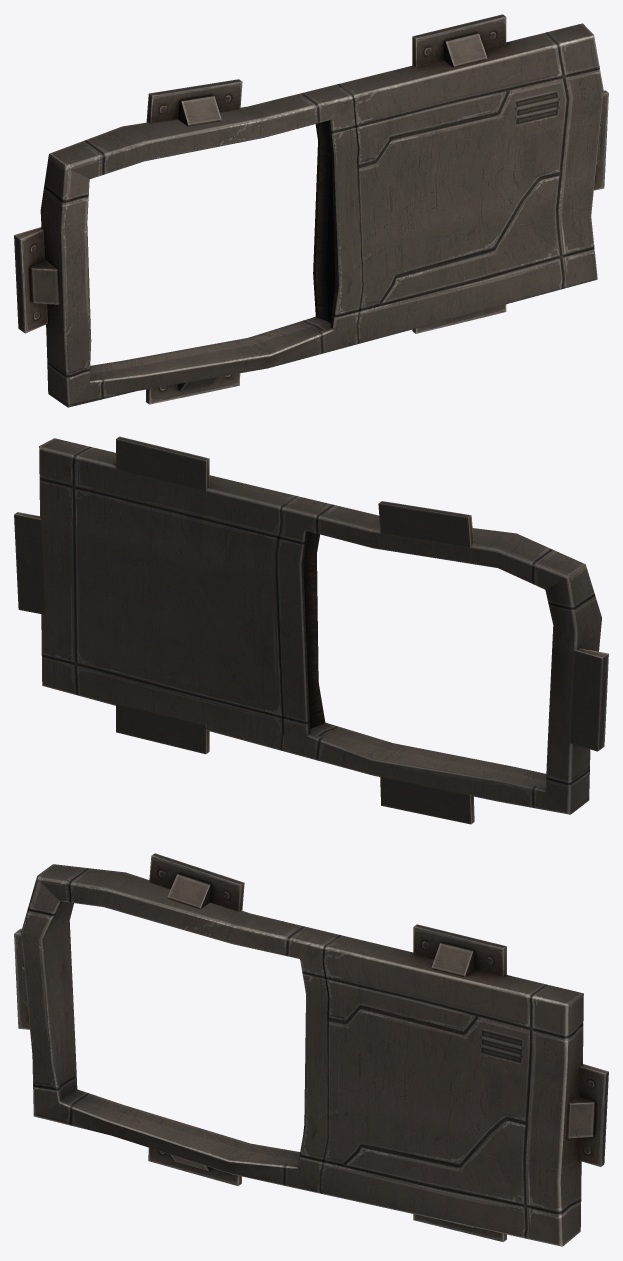
Rendered from 02_05_hatch_ventilation_broken_base.dae.
3 renders of one model, top to bottom at view 1: azimuth 30°, elevation 25°; view 2: azimuth 150°, elevation 25°; view 3: azimuth 330°, elevation 25°, orthographic.
Visible parts, largest first — view 1: door_hatch_slide_ventilation; view 2: door_hatch_slide_ventilation; view 3: door_hatch_slide_ventilation.
Boxes of the visible parts, bbox=[...] form: door_hatch_slide_ventilation: bbox=[14, 14, 608, 407]; door_hatch_slide_ventilation: bbox=[14, 436, 608, 824]; door_hatch_slide_ventilation: bbox=[14, 853, 608, 1246].
Size of the model in its own units: 3.06 by 1.54 by 0.238.
